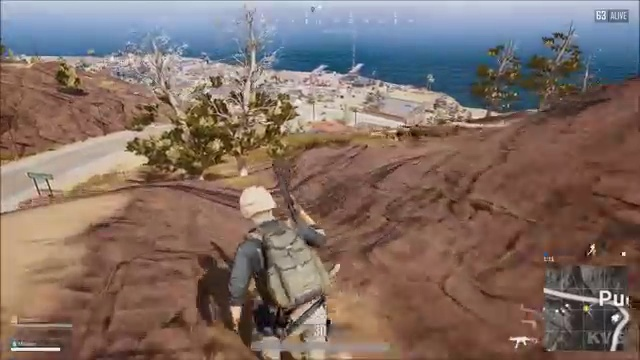Player: (192, 161, 363, 318)
